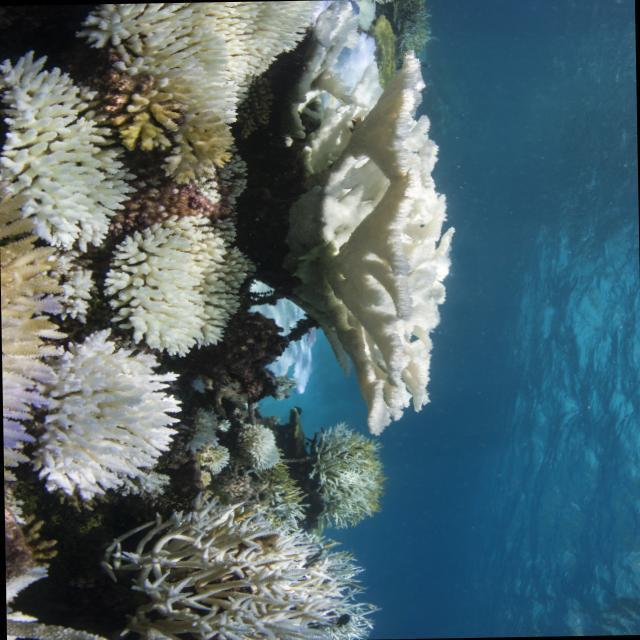Bleached Coral: (292, 84, 459, 421), (100, 509, 380, 638), (27, 332, 182, 501), (13, 45, 130, 241), (88, 203, 230, 347), (83, 0, 298, 94), (313, 429, 372, 515)
